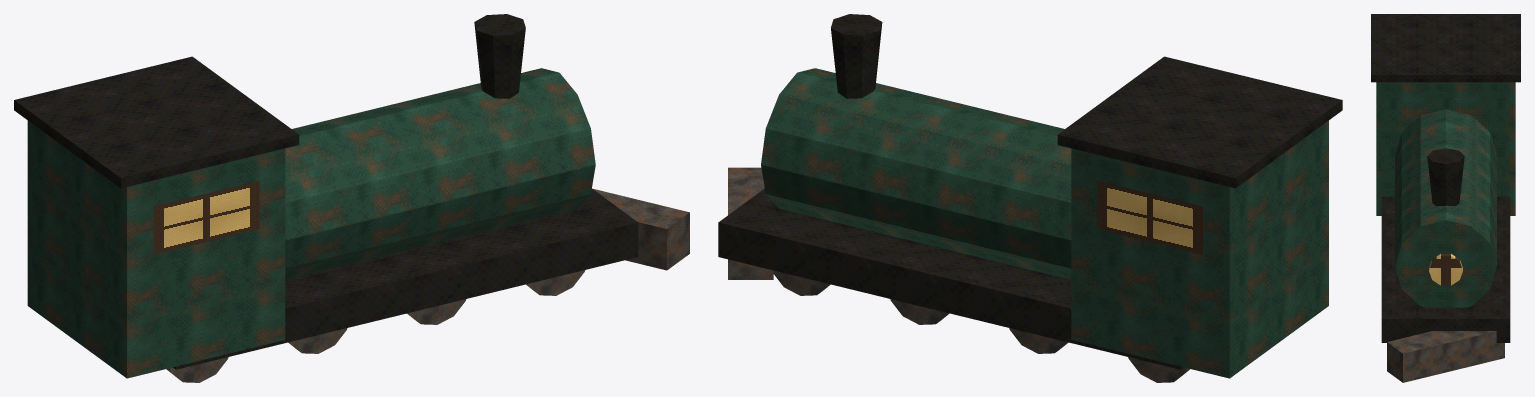
File: locomotora.obj
The picture shows the model from 3 angles, left to right: view 1: azimuth 30°, elevation 25°; view 2: azimuth 150°, elevation 25°; view 3: azimuth 270°, elevation 25°; orthographic projection. The views are drawn at different scales.
Parts seen in each view (by area): view 1: locomotora; view 2: locomotora; view 3: locomotora.
Boxes of the visible parts, x1,y1,x2,y2 form: locomotora: (14, 14, 689, 382); locomotora: (718, 14, 1342, 382); locomotora: (1371, 14, 1520, 382).
Bounding box in the file's own units: 8.96 × 3.7 × 2.8.
4 materials, 4 textured.
